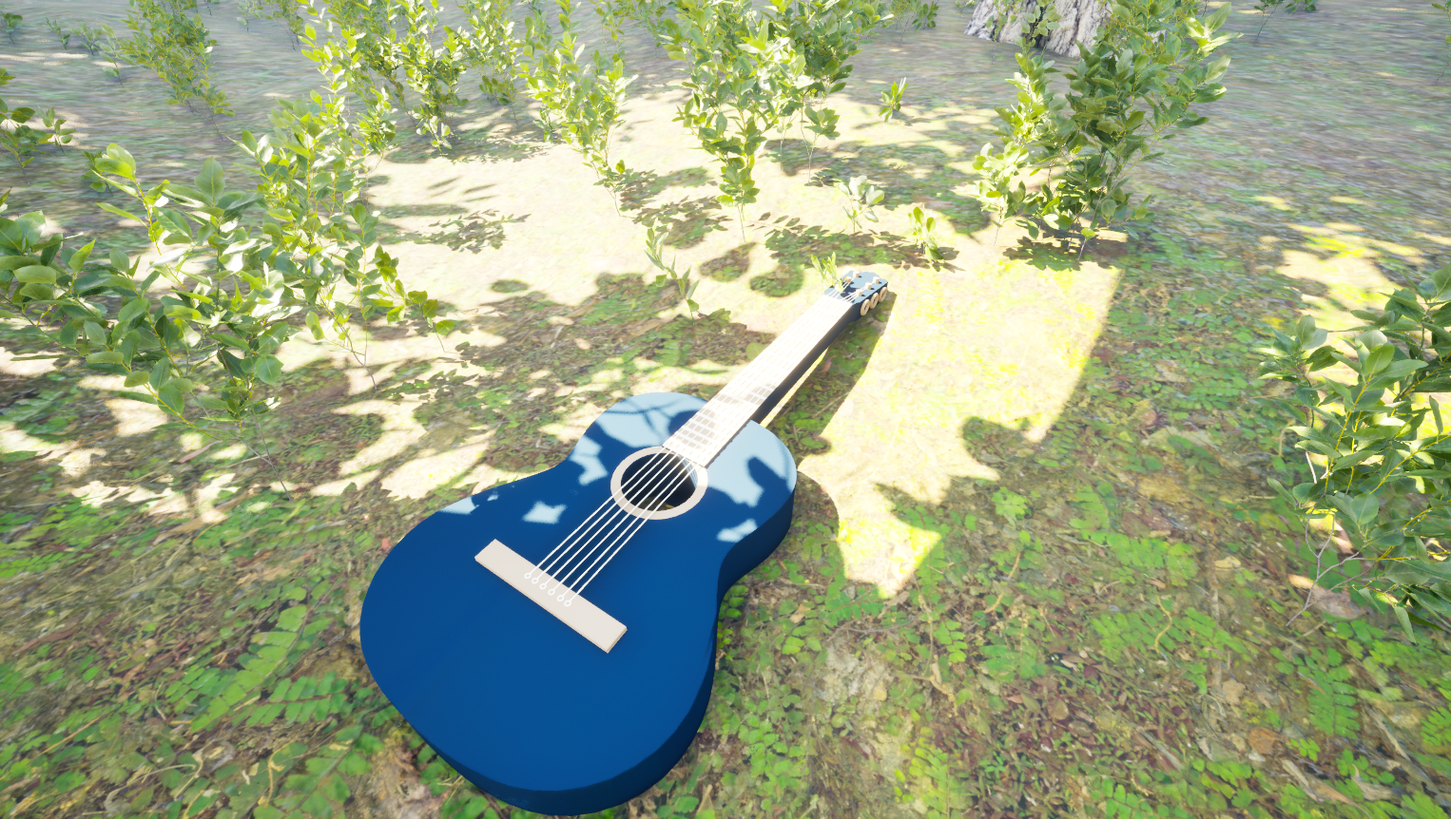Guitar: (294, 234, 975, 819)
